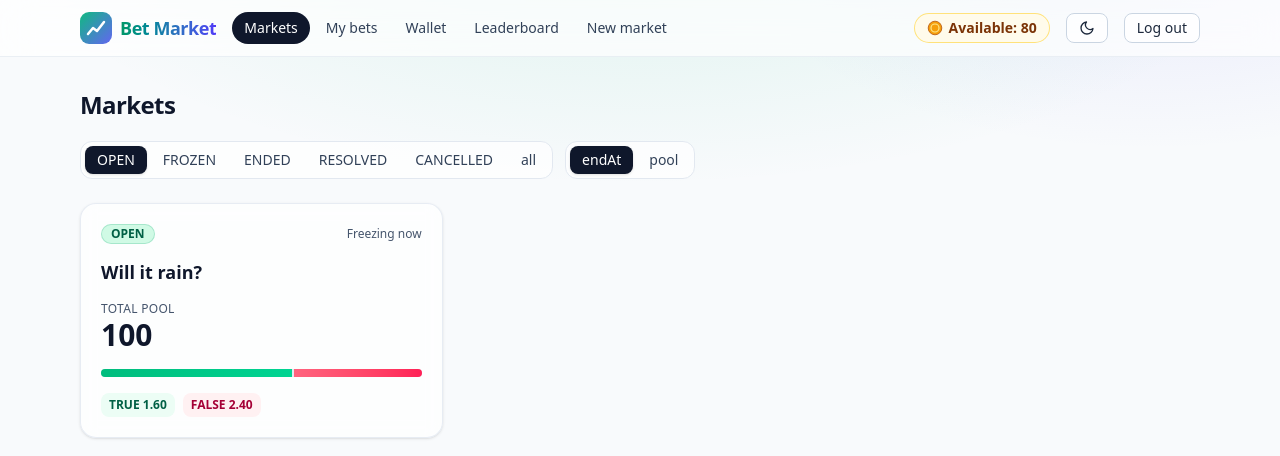
header shows the available balance and a logout button when logged in
Expected: the text "Available: 80" is shown, [949,18,1037,38]
Click the button "Log out": (1162, 28) [1124,13,1200,43]
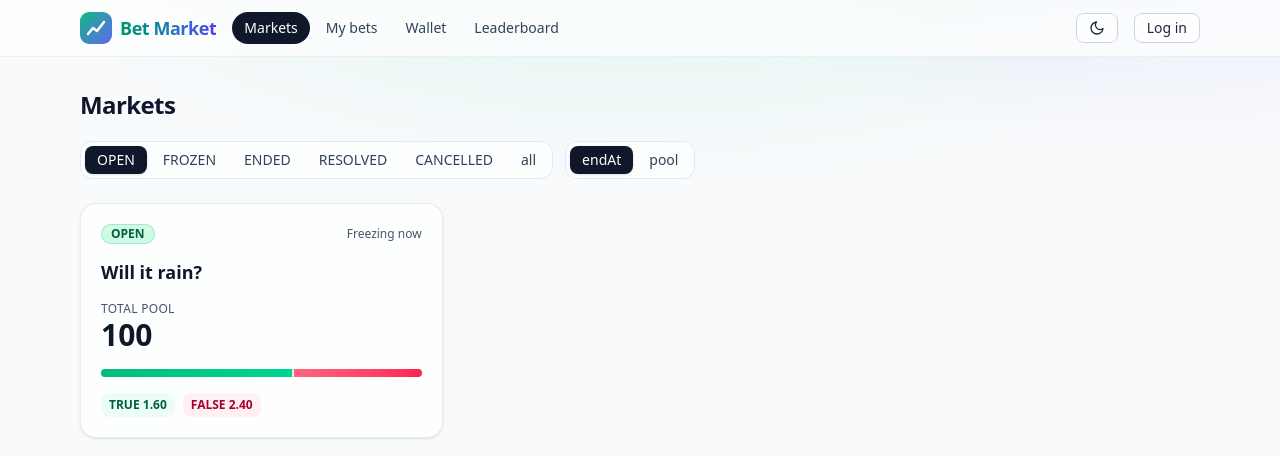
Result: the link "Log in" is shown at [1134,13,1200,43]
